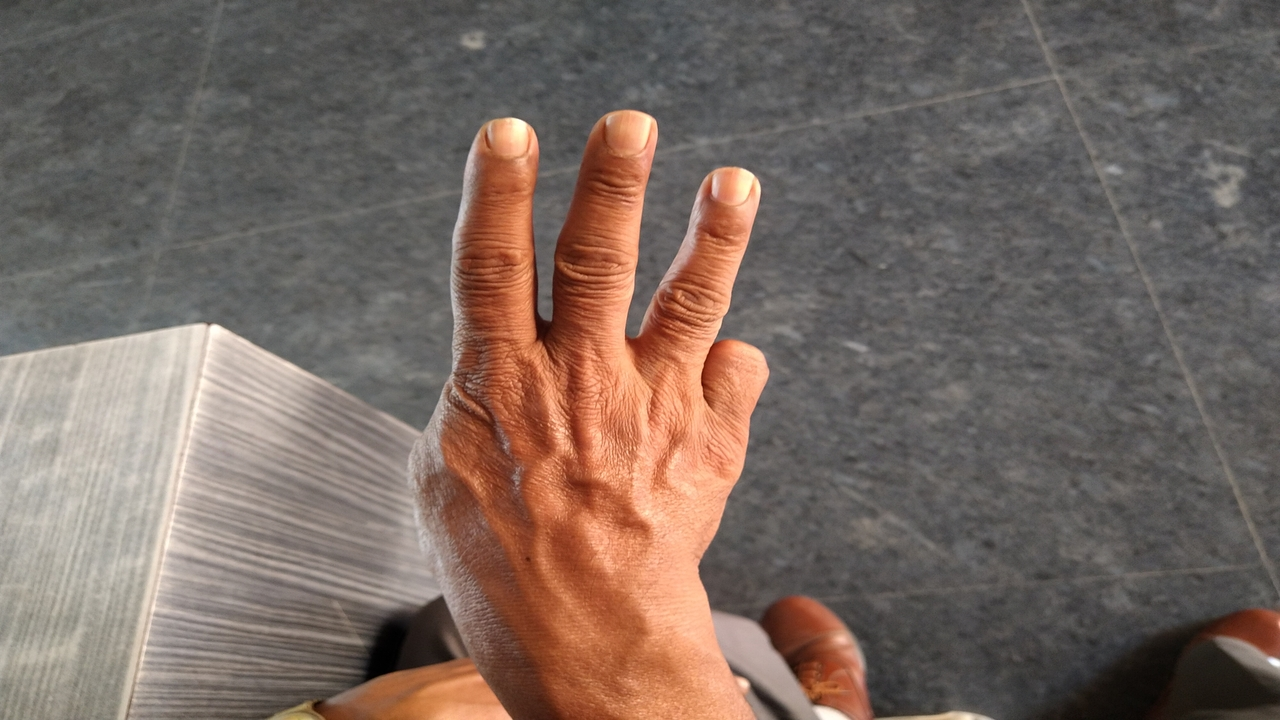fingertip: (686, 158, 770, 228), (458, 112, 544, 176), (576, 104, 664, 164)
